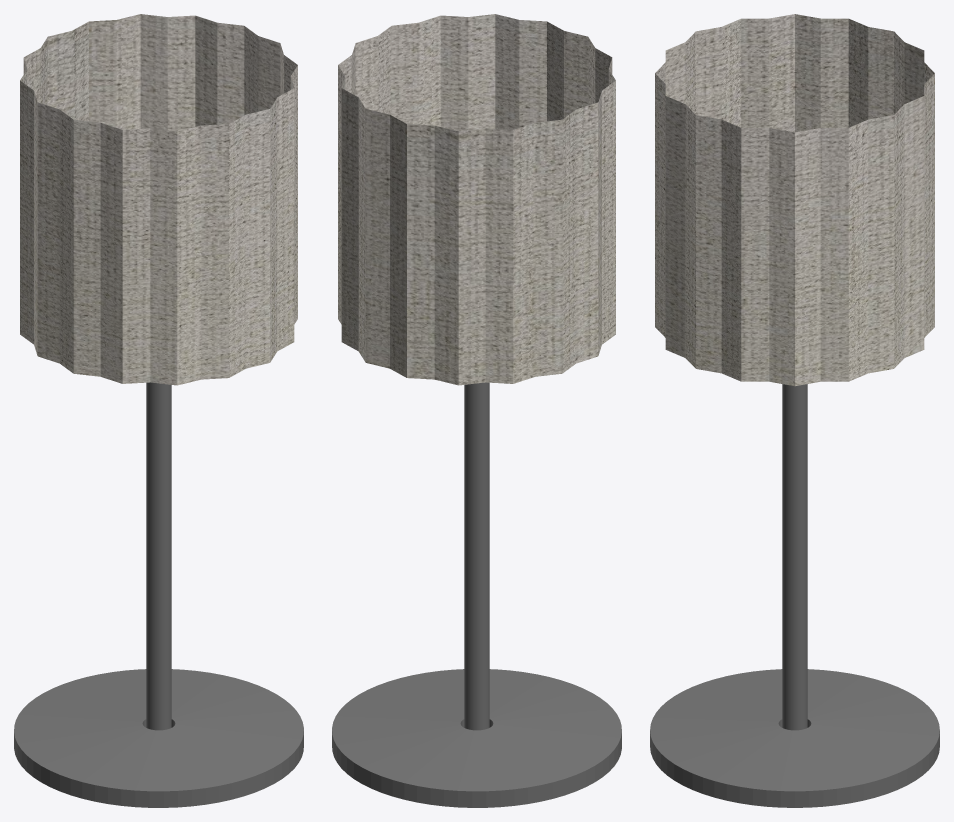
The model's file is lampfloor.glb.
The picture shows the model from 3 angles, left to right: view 1: azimuth 30°, elevation 25°; view 2: azimuth 150°, elevation 25°; view 3: azimuth 270°, elevation 25°; orthographic projection.
Parts seen in each view (by area): view 1: Cylinder, Leg; view 2: Cylinder, Leg; view 3: Cylinder, Leg.
Boxes of the visible parts, x1=… form: Cylinder: x1=20, y1=14, x2=297, y2=385; Leg: x1=14, y1=382, x2=303, y2=807; Cylinder: x1=338, y1=14, x2=615, y2=385; Leg: x1=332, y1=382, x2=621, y2=807; Cylinder: x1=655, y1=14, x2=934, y2=386; Leg: x1=650, y1=384, x2=939, y2=807.
Bounding box in the file's own units: 0.5863 × 1.5 × 0.5863.
Materials: 6 (2 with a texture image).
